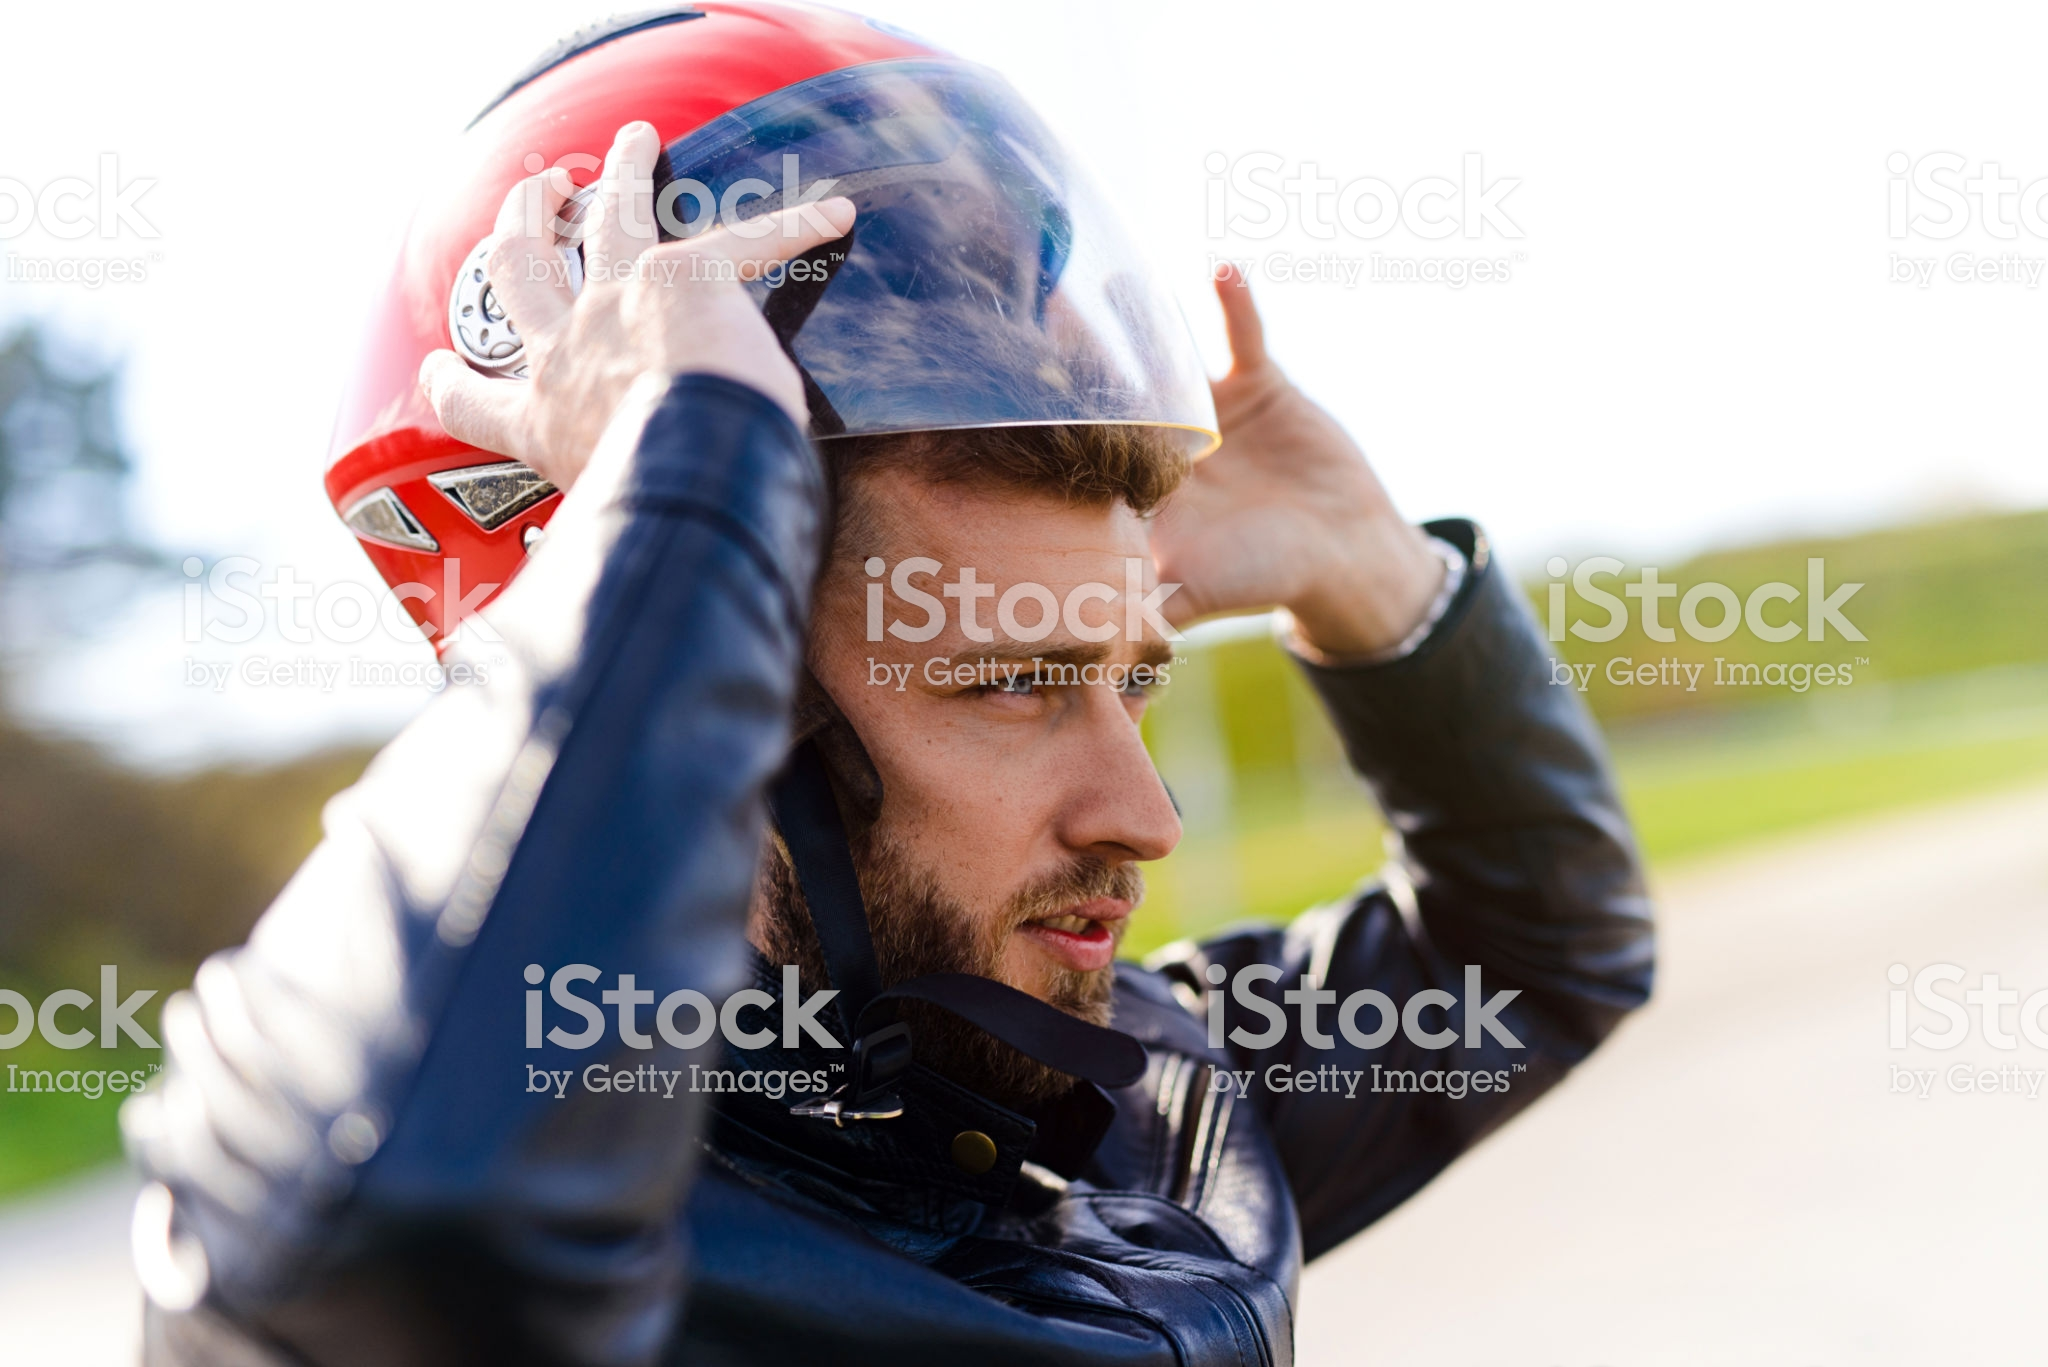helmet: (322, 15, 1177, 571)
